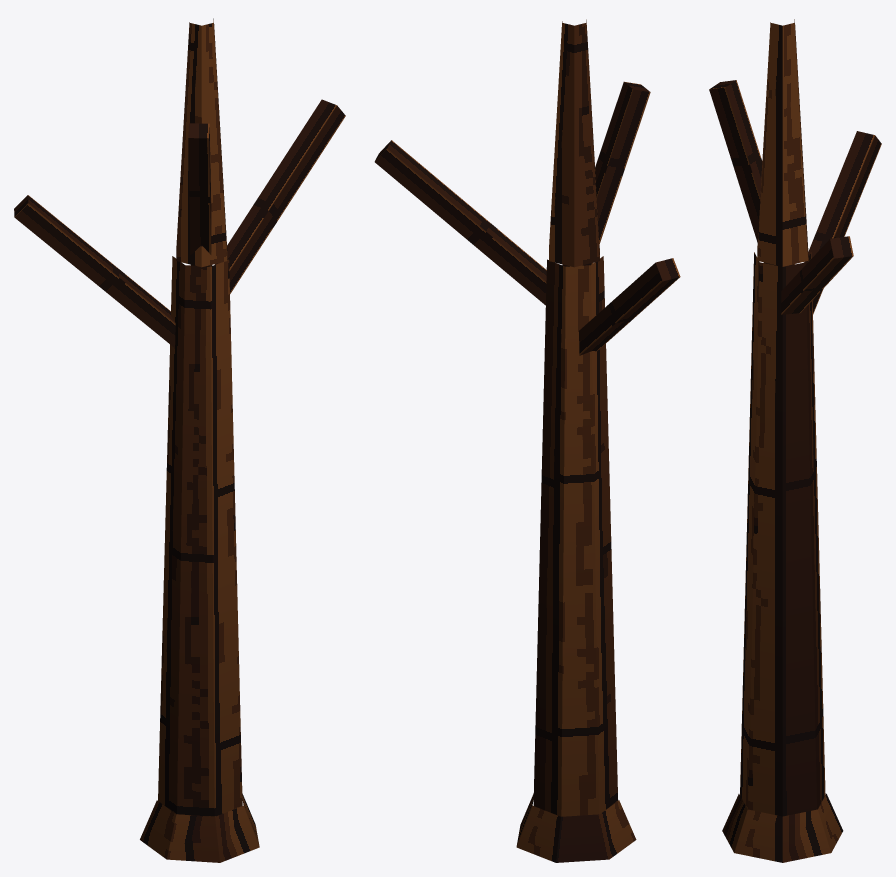
File: oak_1_trunk.glb
The picture shows the model from 3 angles, left to right: view 1: azimuth 30°, elevation 25°; view 2: azimuth 150°, elevation 25°; view 3: azimuth 270°, elevation 25°; orthographic projection.
Parts seen in each view (by area): view 1: oak_1_trunk; view 2: oak_1_trunk; view 3: oak_1_trunk.
Part boxes in pixels (x1,y1,x2,y2): oak_1_trunk: (14,18,345,862); oak_1_trunk: (374,19,680,862); oak_1_trunk: (709,19,881,862).
Bounding box in the file's own units: 2.11 × 5.22 × 1.
Materials: 1 (1 with a texture image).
